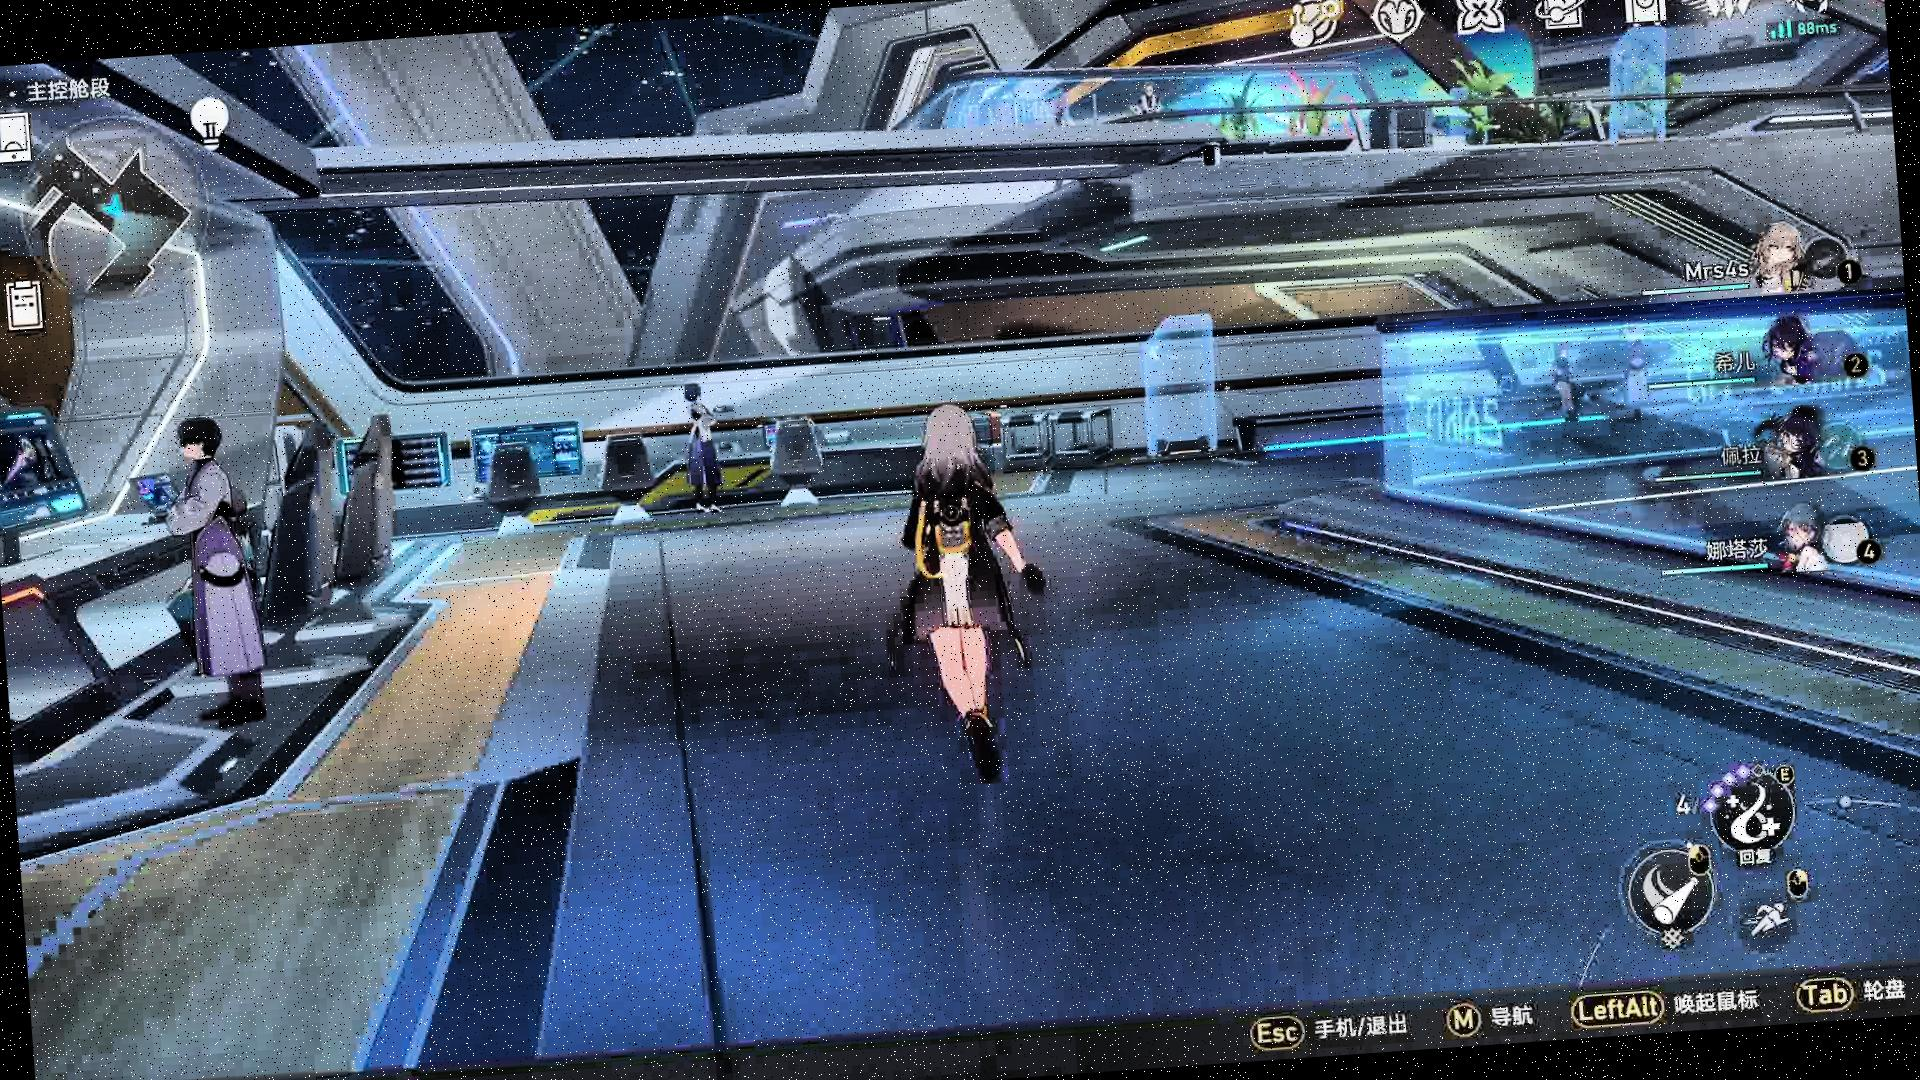Self: (865, 396, 1064, 793)
TeamMate: (158, 409, 286, 733), (675, 375, 736, 520), (1607, 314, 1658, 435), (1547, 347, 1585, 429)
